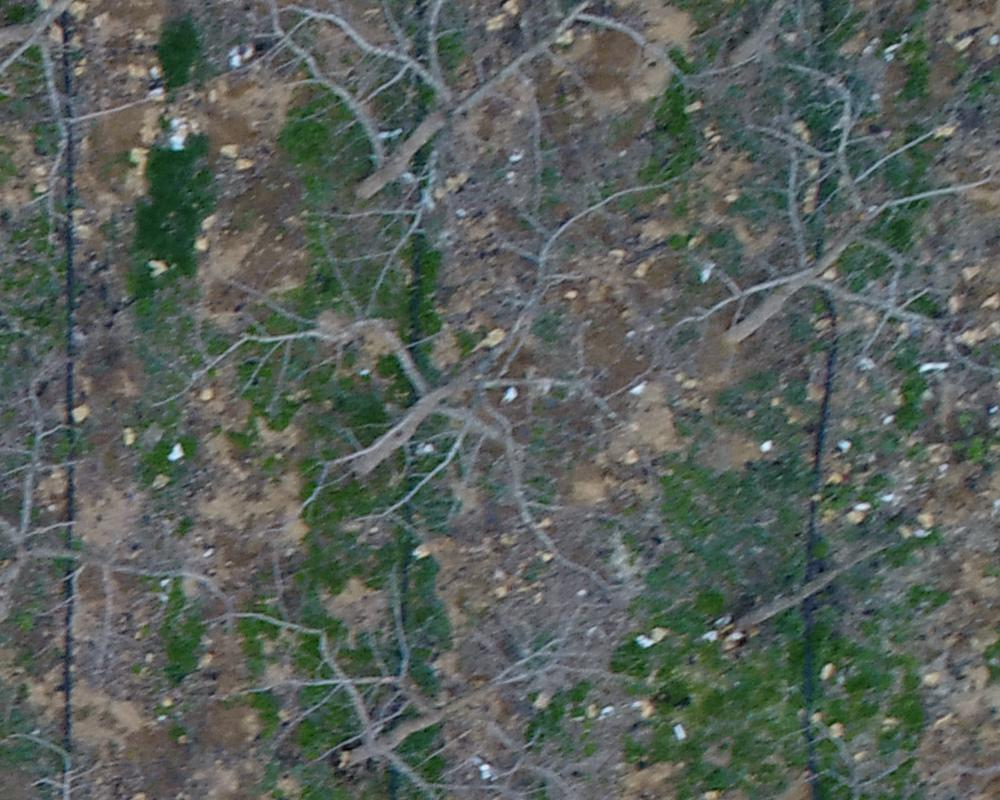apple: (230, 199, 645, 585), (637, 42, 990, 381), (230, 554, 657, 790), (236, 10, 618, 251), (675, 435, 968, 704), (10, 365, 245, 697)
